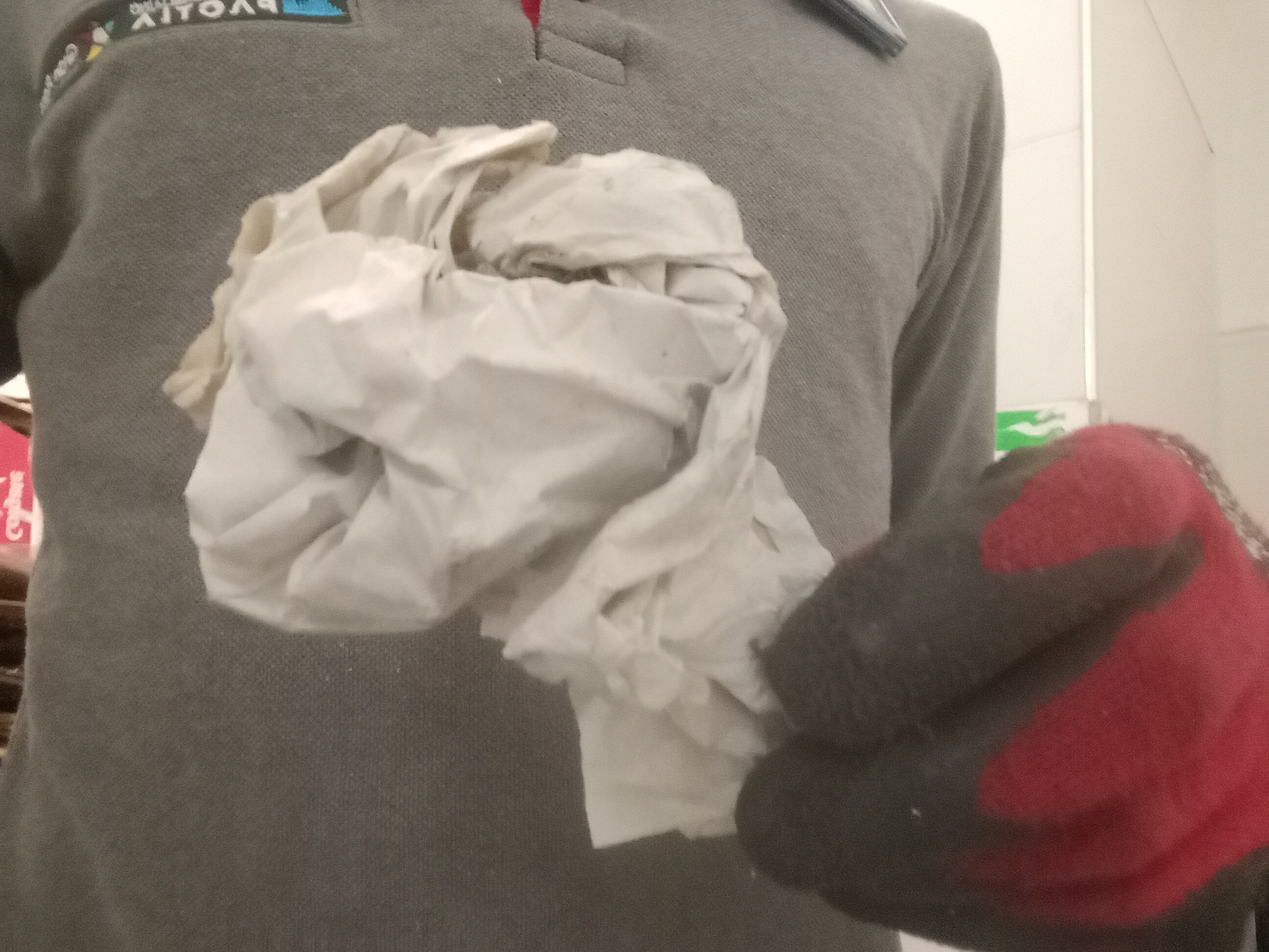Papel: (161, 114, 834, 847)
